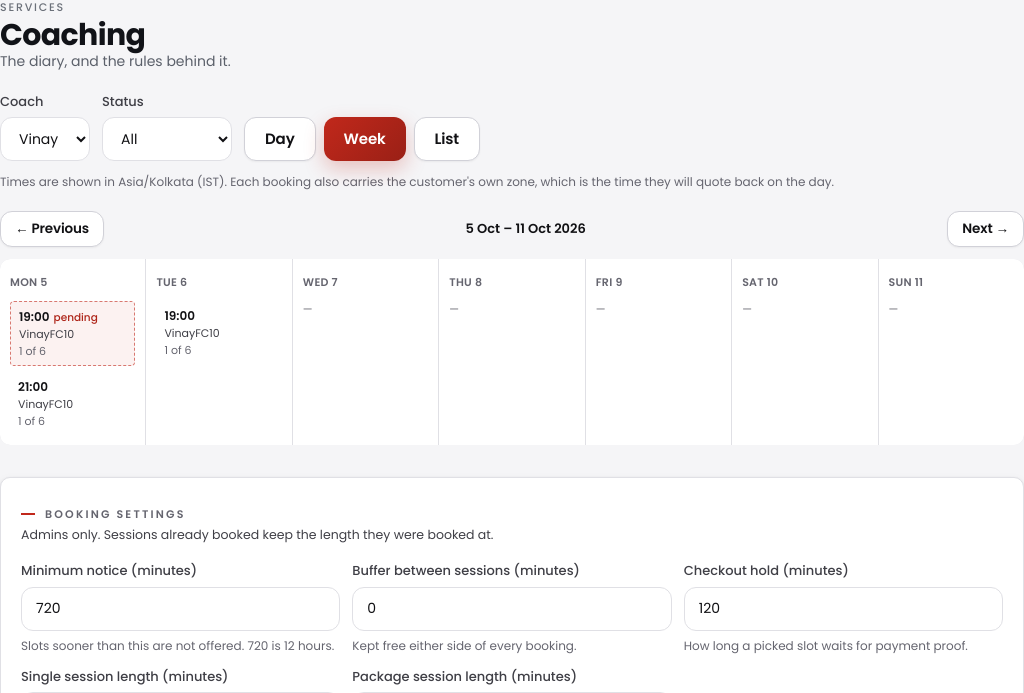
Test: Coaching diary › has a day view for one day at a time
What coordinates should you click on to do the following:
click the button "Day"
I would click on:
 (280, 139)
Its box is [244,117,316,161].
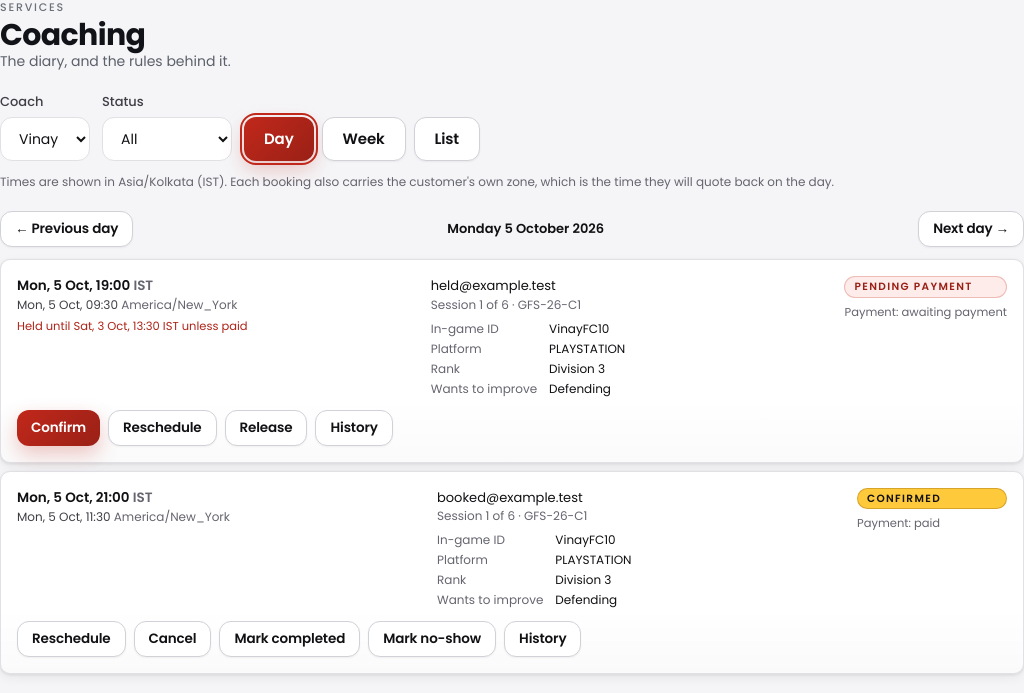
Expected: the element with test id "session-held" is shown, [0,259,1023,463]
Expected: the element with test id "session-booked" is shown, [0,471,1023,674]
